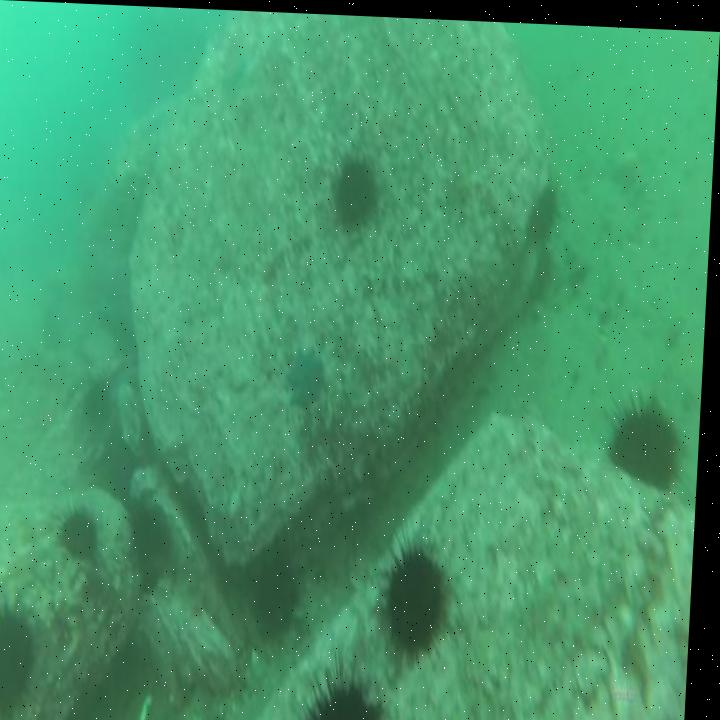echinus: (392, 548, 450, 653), (616, 401, 687, 482), (0, 614, 41, 710), (261, 557, 304, 630), (316, 680, 392, 720), (339, 155, 377, 218), (527, 179, 562, 244), (136, 509, 176, 558), (64, 512, 103, 559), (86, 377, 118, 426)
starfish: (291, 350, 326, 406)
